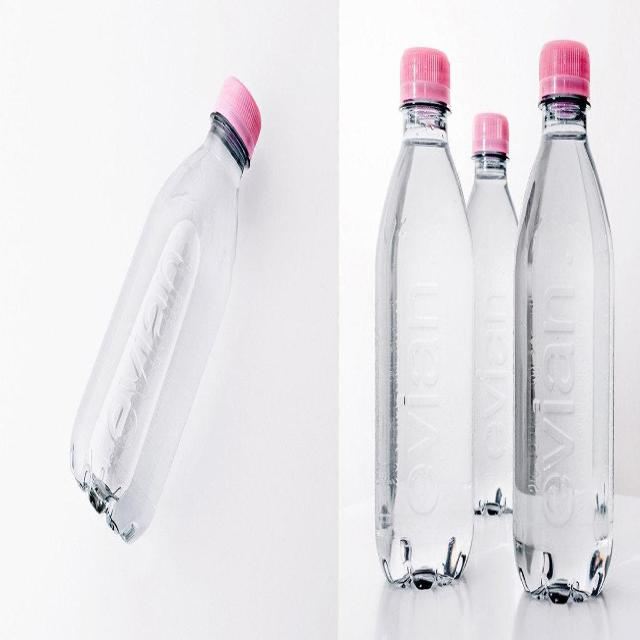bottle: (69, 67, 263, 547), (506, 0, 618, 607), (370, 40, 480, 596), (468, 108, 520, 519)
